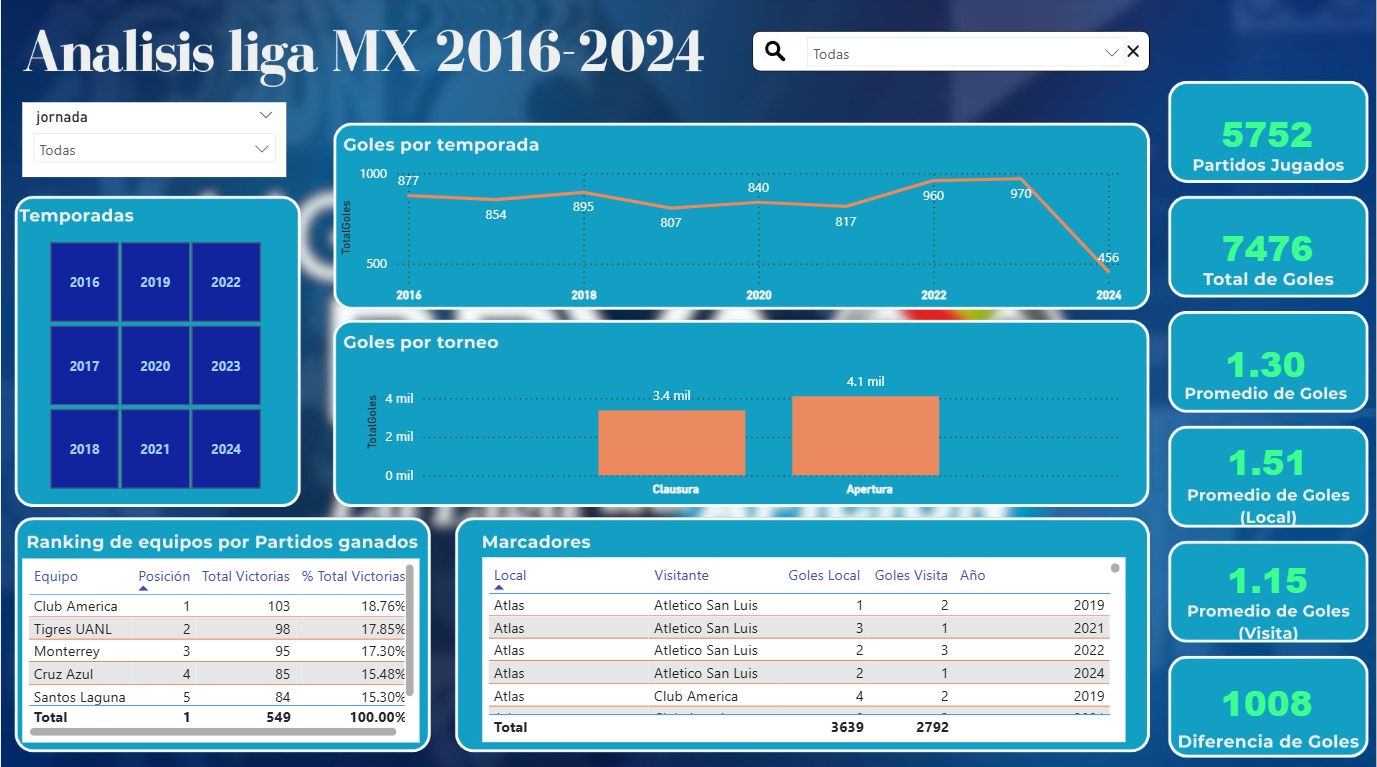

The page's visual inventory and layout, read from the dashboard file:
{"tool":"powerbi","page":{"name":"Página 1","canvas":[1280,720],"ordinal":0},"visuals":[{"type":"slicer","fields":{"Values":["2016-2024_liga_mx.season"]},"box":[20.3,221.6,245.7,243.1],"z":0},{"type":"card","fields":{"Values":["2016-2024_liga_mx.partidosTotales"]},"box":[1099.2,88.6,158.3,79.8],"z":1000},{"type":"card","fields":{"Values":["2016-2024_liga_mx.TotalGoles"]},"box":[1108,191.2,140.6,87.4],"z":2000},{"type":"card","fields":{"Values":["Avg(2016-2024_liga_mx.home_goals)"]},"box":[1108,393.8,140.6,79.8],"z":3000},{"type":"card","fields":{"Values":["Avg(2016-2024_liga_mx.away_goals)"]},"box":[1077.6,497.7,201.3,91.2],"z":4000},{"type":"clusteredColumnChart","fields":{"Category":["2016-2024_liga_mx.tournament"],"Y":["2016-2024_liga_mx.TotalGoles"]},"box":[334.3,333,712.9,140.6],"z":5000},{"type":"card","fields":{"Values":["2016-2024_liga_mx.difGoles"]},"box":[1087.8,621.8,181.1,72.2],"z":6000},{"type":"slicer","fields":{"Values":["2016-2024_liga_mx.home_team"]},"box":[739.5,27.9,316.6,40.5],"z":7000},{"type":"card","fields":{"Values":["2016-2024_liga_mx.Promedio Goles Equipo"]},"box":[1086.5,297.6,181.1,89.9],"z":8000},{"type":"tableEx","fields":{"Values":["2016-2024_liga_mx.home_team","2016-2024_liga_mx.PartidosGanados","2016-2024_liga_mx.Total Victorias","Divide(2016-2024_liga_mx.Total Victorias, ScopedEval(2016-2024_liga_mx.Total Victorias, []))"]},"box":[20.3,523,369.8,171],"z":10000},{"type":"tableEx","fields":{"Values":["2016-2024_liga_mx.home_team","2016-2024_liga_mx.away_team","Sum(2016-2024_liga_mx.home_goals)","Sum(2016-2024_liga_mx.away_goals)","2016-2024_liga_mx.date.Variación.Jerarquía de fechas.Año"]},"box":[448,522.5,598.4,171.6],"z":11000},{"type":"slicer","fields":{"Values":["2016-2024_liga_mx.jornada"]},"box":[20.3,98.8,245.7,69.6],"z":12000},{"type":"lineChart","fields":{"Y":["2016-2024_liga_mx.TotalGoles"],"Category":["2016-2024_liga_mx.season"]},"box":[310.3,150.7,737,141.8],"z":13000}]}

Visuals, with their boxes in screenshot pixels (x1, y1, x2, y2), scaled from the page's 1280x720 canvas onto the 1377x767 screenshot:
slicer - 2016-2024_liga_mx.season: <region>22, 236, 286, 495</region>
card - 2016-2024_liga_mx.partidosTotales: <region>1182, 94, 1353, 179</region>
card - 2016-2024_liga_mx.TotalGoles: <region>1192, 204, 1343, 297</region>
card - Avg(2016-2024_liga_mx.home_goals): <region>1192, 420, 1343, 505</region>
card - Avg(2016-2024_liga_mx.away_goals): <region>1159, 530, 1376, 627</region>
clusteredColumnChart - 2016-2024_liga_mx.tournament x 2016-2024_liga_mx.TotalGoles: <region>360, 355, 1127, 505</region>
card - 2016-2024_liga_mx.difGoles: <region>1170, 662, 1365, 739</region>
slicer - 2016-2024_liga_mx.home_team: <region>796, 30, 1136, 73</region>
card - 2016-2024_liga_mx.Promedio Goles Equipo: <region>1169, 317, 1364, 413</region>
tableEx - 2016-2024_liga_mx.home_team x 2016-2024_liga_mx.PartidosGanados: <region>22, 557, 420, 739</region>
tableEx - 2016-2024_liga_mx.home_team x 2016-2024_liga_mx.away_team: <region>482, 557, 1126, 739</region>
slicer - 2016-2024_liga_mx.jornada: <region>22, 105, 286, 179</region>
lineChart - 2016-2024_liga_mx.TotalGoles x 2016-2024_liga_mx.season: <region>334, 161, 1127, 312</region>
